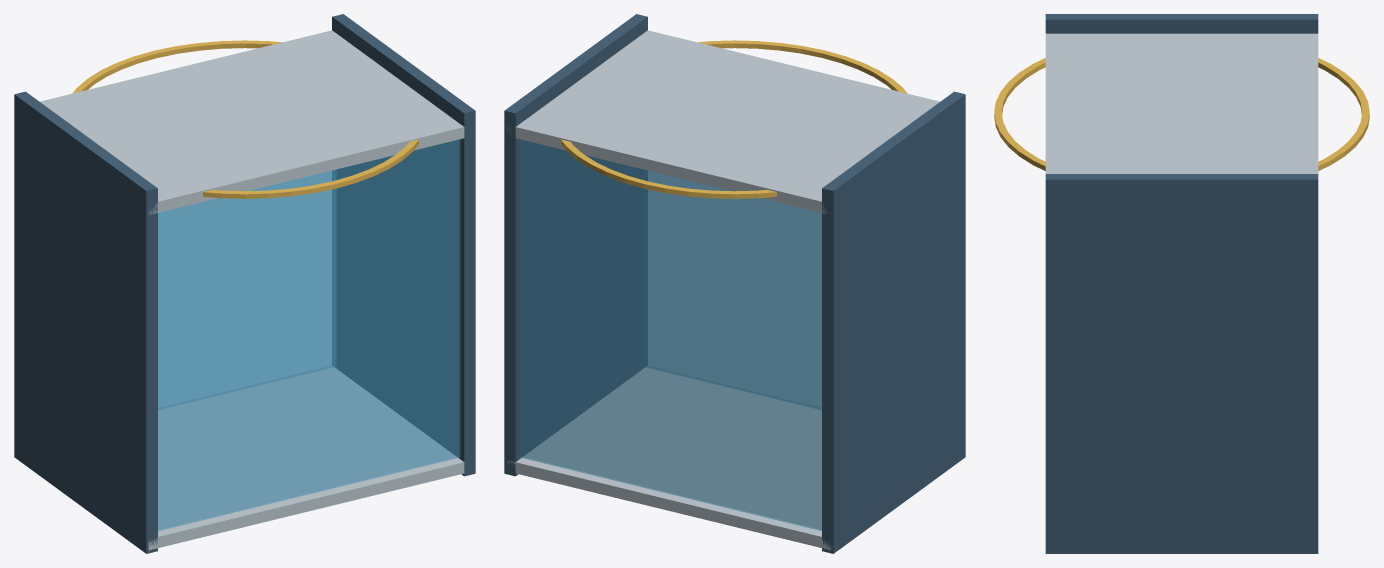
The model's file is 38_L79_TransparentBondChamberWindow.fbx.
The picture shows the model from 3 angles, left to right: view 1: azimuth 30°, elevation 25°; view 2: azimuth 150°, elevation 25°; view 3: azimuth 270°, elevation 25°; orthographic projection. The views are drawn at different scales.
Parts seen in each view (by area): view 1: TransparentBondChamberWindow; view 2: TransparentBondChamberWindow; view 3: TransparentBondChamberWindow.
Part boxes in pixels (x1,y1,x2,y2): TransparentBondChamberWindow: (14, 14, 475, 553); TransparentBondChamberWindow: (504, 14, 965, 553); TransparentBondChamberWindow: (994, 14, 1369, 553).
Size of the model in its own units: 522 by 550 by 500.
